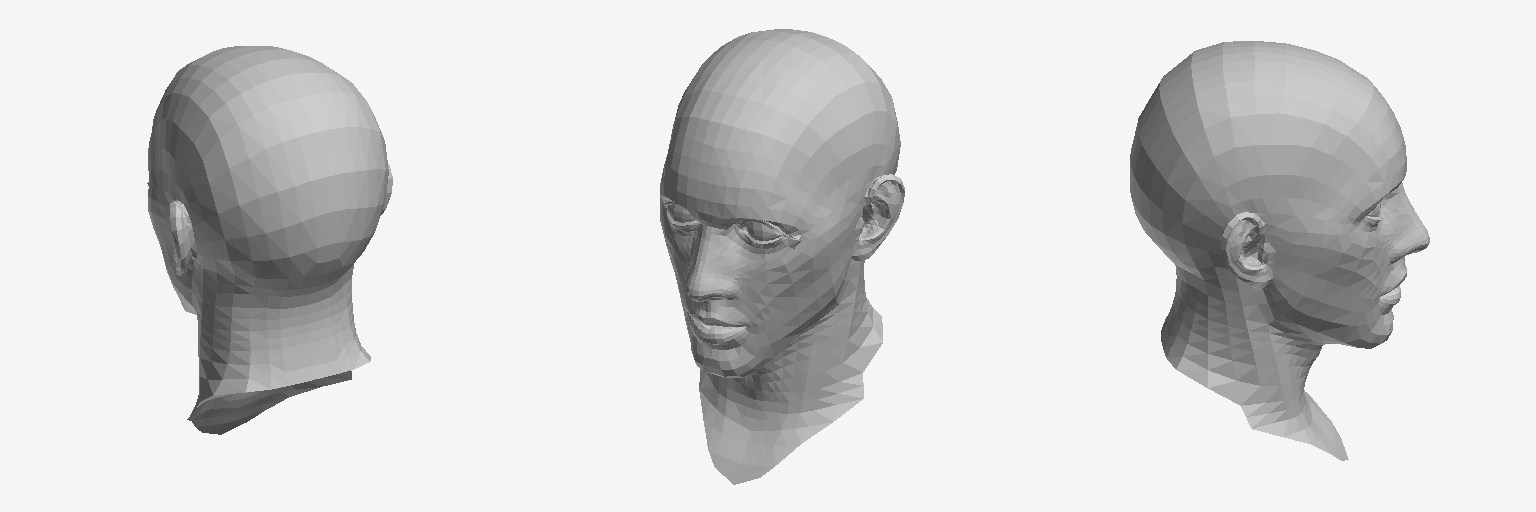
File: sculpted_model.obj
3 renders of one model, left to right at view 1: azimuth 30°, elevation 25°; view 2: azimuth 150°, elevation 25°; view 3: azimuth 270°, elevation 25°, orthographic.
Visible parts, largest first — view 1: mesh0; view 2: mesh0; view 3: mesh0.
Boxes of the visible parts, <box> form: mesh0: <box>147,46,392,434</box>; mesh0: <box>660,29,904,484</box>; mesh0: <box>1130,41,1429,460</box>.
Size of the model in its own units: 18.12 by 32 by 21.32.